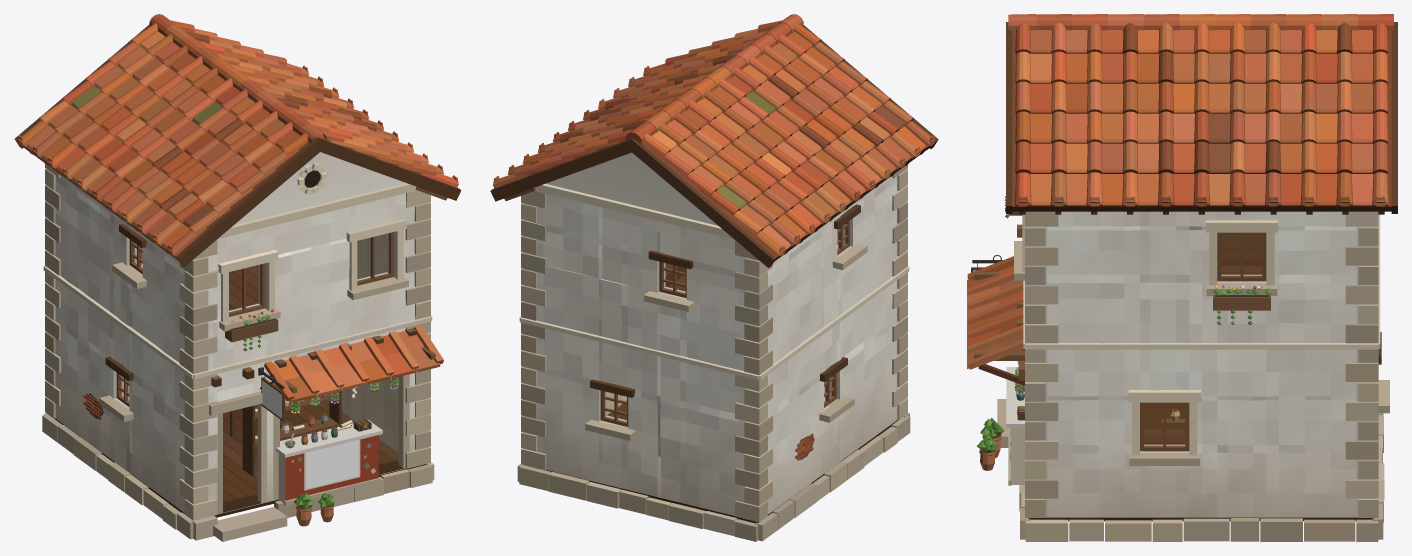
File: shop_medic.glb
The picture shows the model from 3 angles, left to right: view 1: azimuth 30°, elevation 25°; view 2: azimuth 150°, elevation 25°; view 3: azimuth 270°, elevation 25°; orthographic projection. The views are drawn at different scales.
Visible parts, largest first — view 1: House, Walls, Rooms; view 2: House, Walls, Rooms; view 3: House, Walls, Rooms.
Part boxes in pixels (x1,y1,x2,y2): House: (14,14,461,541); Walls: (54,152,427,513); Rooms: (128,233,398,504); House: (490,14,938,541); Walls: (524,152,898,515); Rooms: (607,229,838,420); House: (967,14,1397,541); Walls: (1028,211,1375,517); Rooms: (1144,232,1262,444).
Bounding box in the file's own units: 4.44 × 5.63 × 4.83.
Materials: 6 (6 with a texture image).
